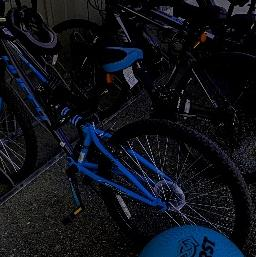algae: (129, 226, 255, 257)
